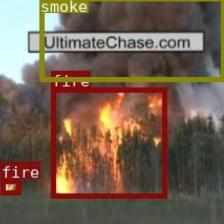fire: (50, 88, 166, 198), (0, 178, 20, 193)
smoke: (38, 0, 224, 80)
